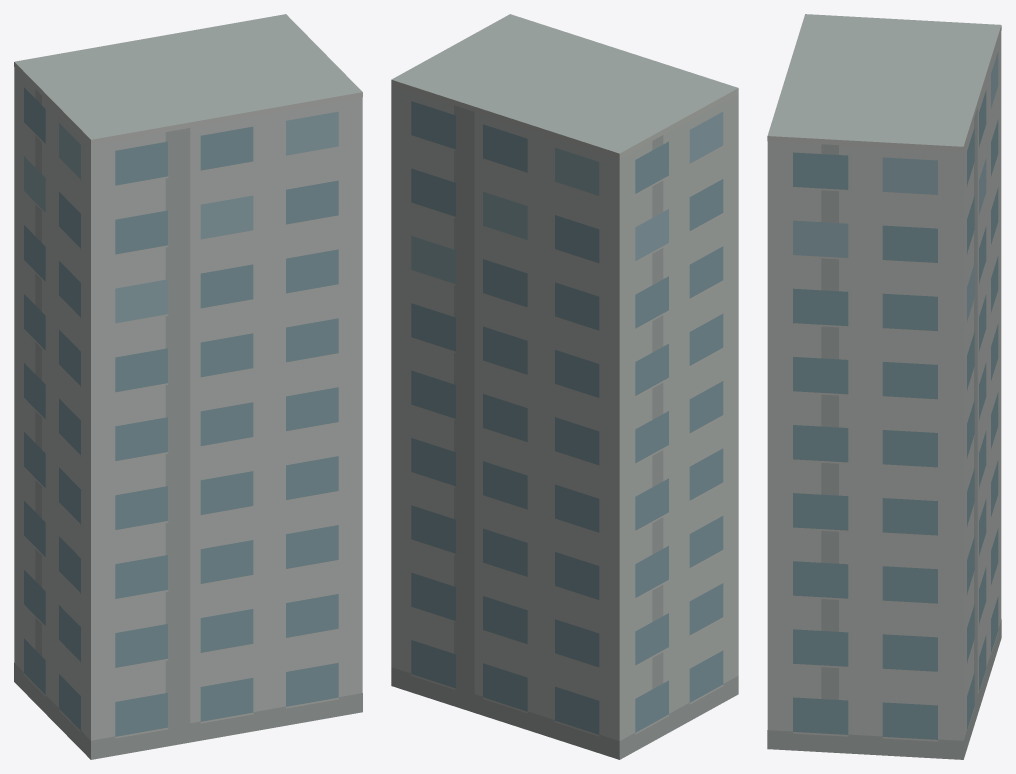
Rendered from residential-bde73687-7249-4fb7-a1d1-e803a4b38718.glb.
3 views of the same model, side by side, from view 1: azimuth 30°, elevation 25°; view 2: azimuth 150°, elevation 25°; view 3: azimuth 270°, elevation 25° (orthographic). The views are drawn at different scales.
Visible parts, largest first — view 1: residential-bde73687-7249-4fb7-a1d1-e803a4b38718.tmp; view 2: residential-bde73687-7249-4fb7-a1d1-e803a4b38718.tmp; view 3: residential-bde73687-7249-4fb7-a1d1-e803a4b38718.tmp.
Boxes of the visible parts, x1,y1,x2,y2 form: residential-bde73687-7249-4fb7-a1d1-e803a4b38718.tmp: [14, 14, 362, 759]; residential-bde73687-7249-4fb7-a1d1-e803a4b38718.tmp: [391, 14, 738, 759]; residential-bde73687-7249-4fb7-a1d1-e803a4b38718.tmp: [767, 14, 1001, 759].
Bounding box in the file's own units: 13.02 × 28 × 9.7.
